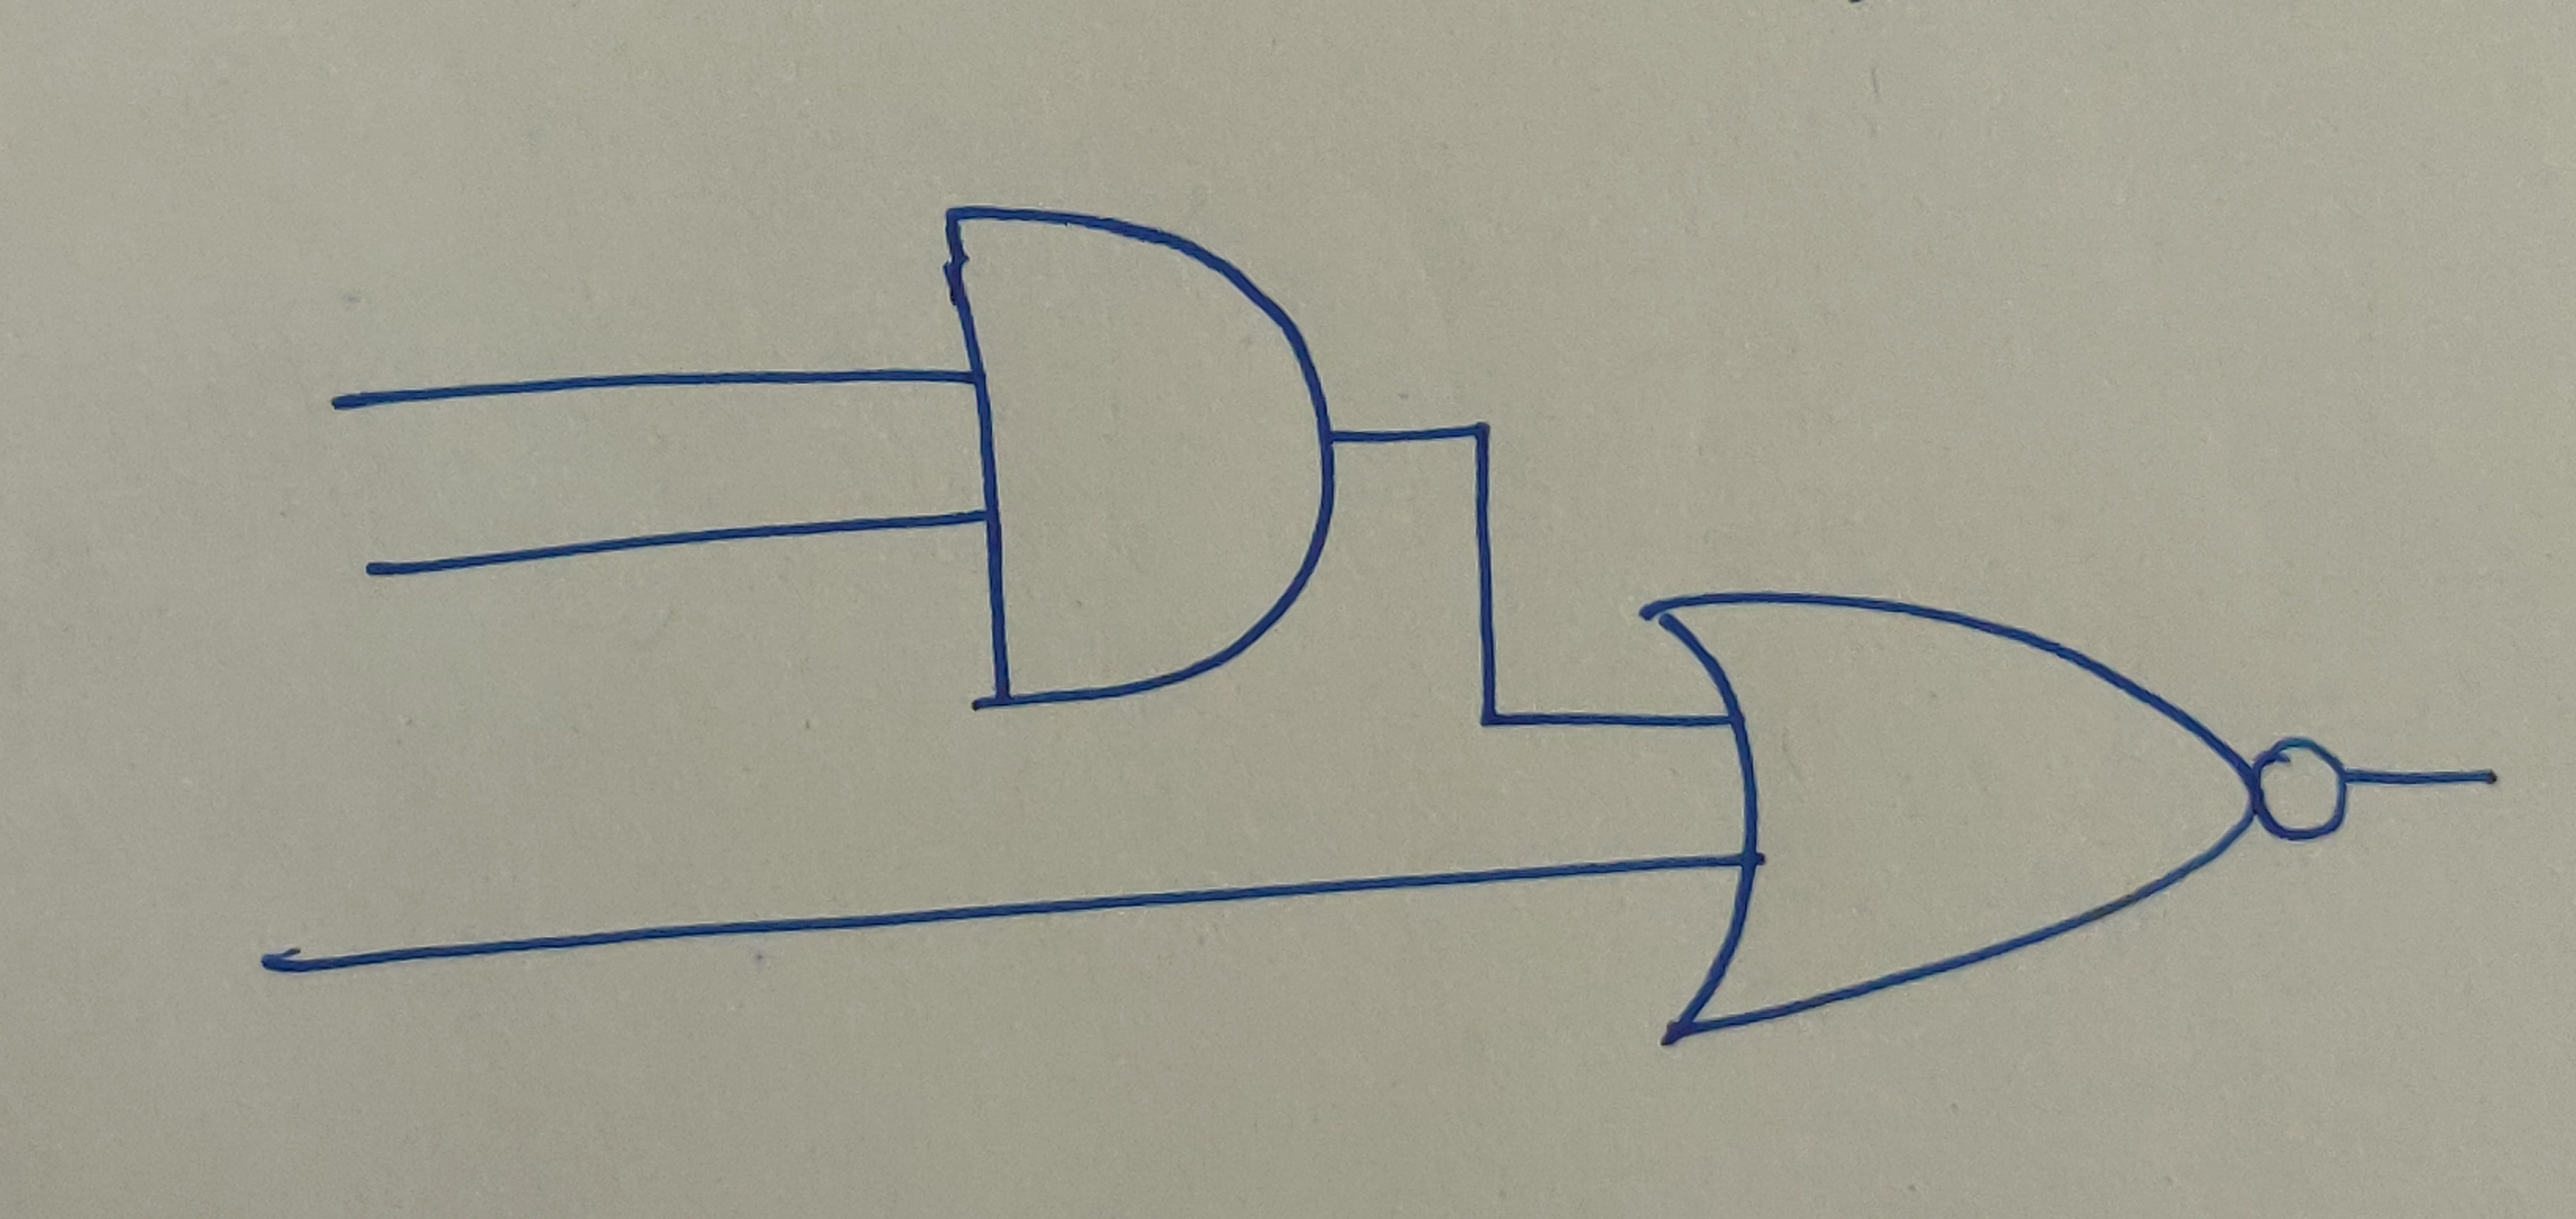and: (945, 200, 1337, 715)
not: (2249, 741, 2361, 849)
or: (1649, 590, 2252, 1045)
